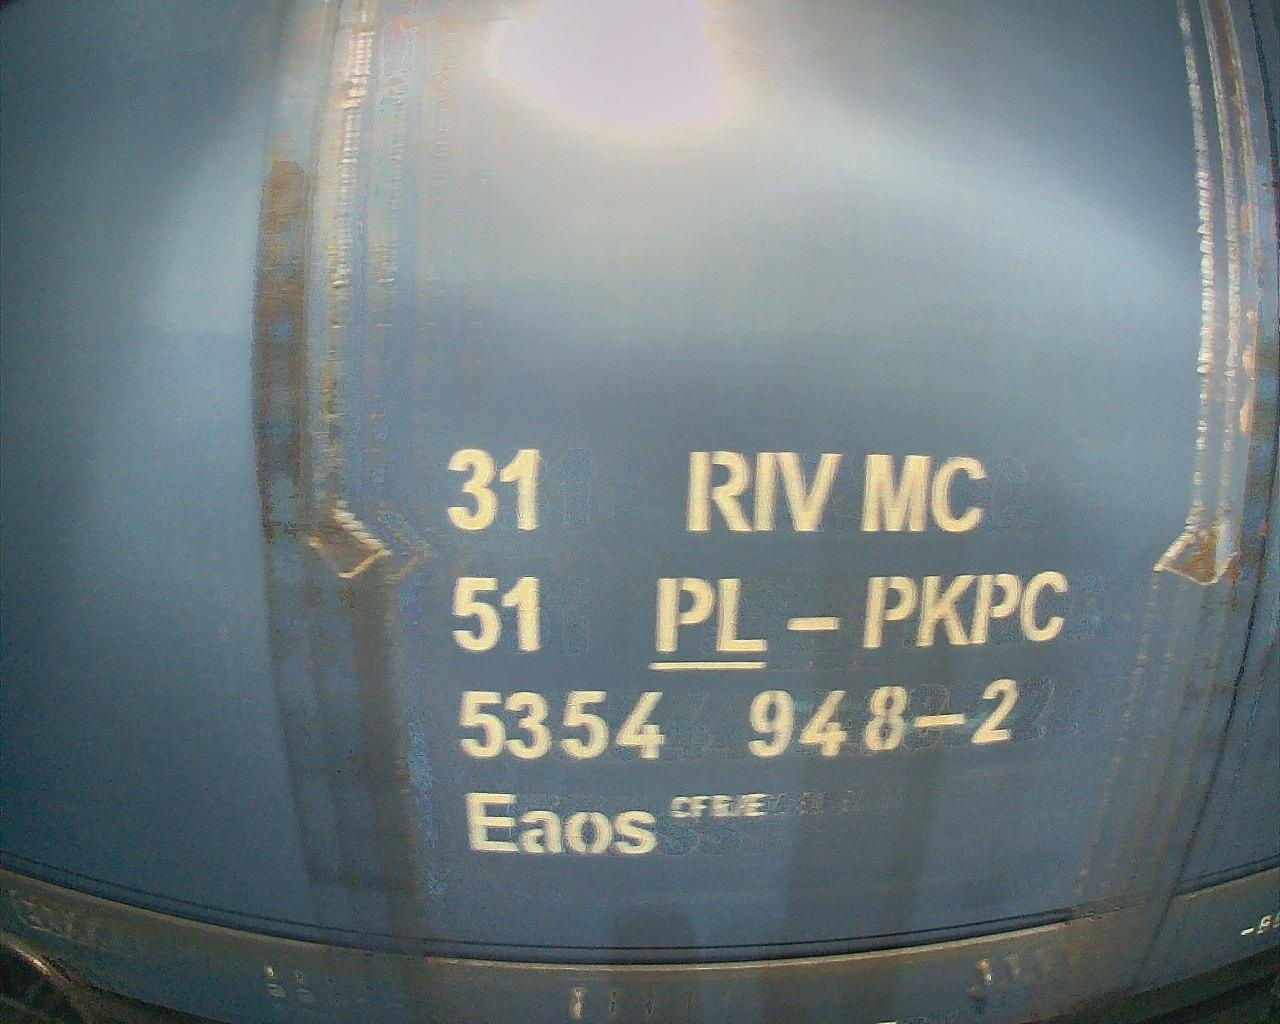UIC: (436, 440, 1076, 875)
